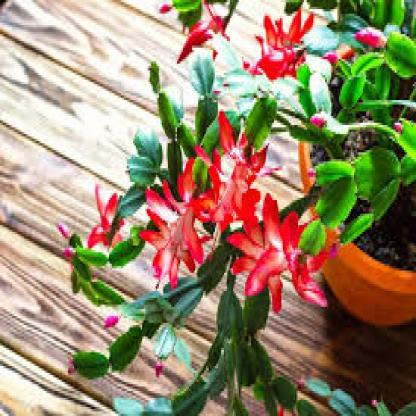Aglonema: (14, 18, 171, 319), (186, 15, 349, 285)
